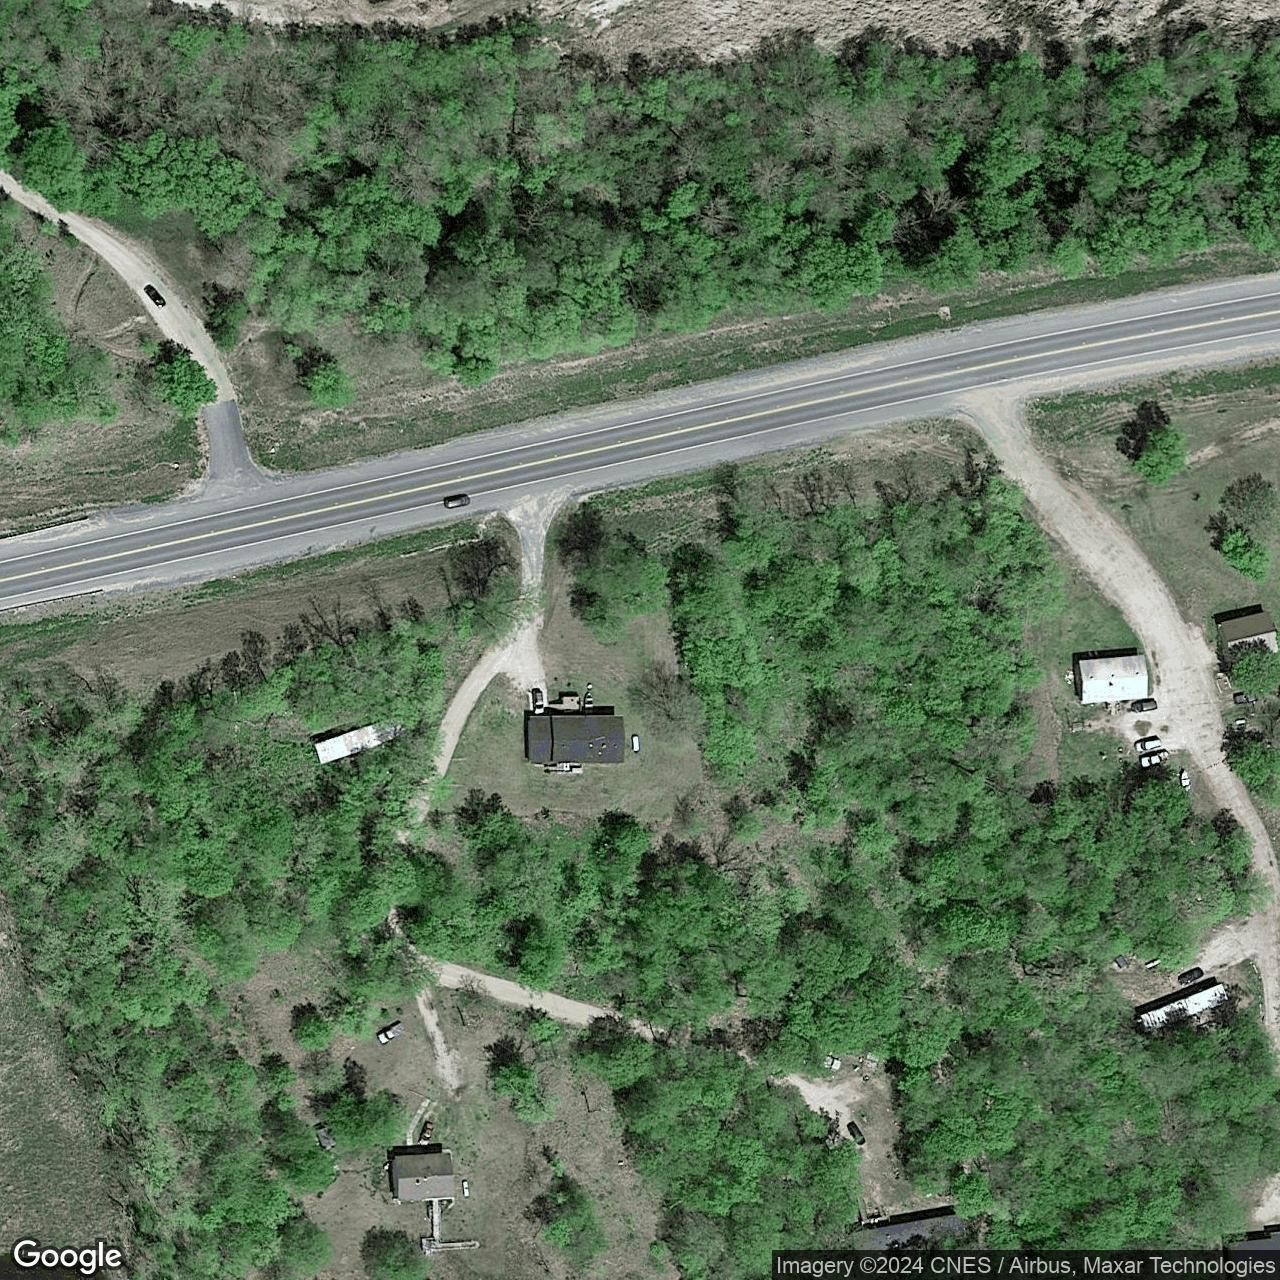House: (527, 715, 624, 763), (852, 1213, 966, 1252), (1077, 654, 1149, 703), (1217, 612, 1279, 666), (394, 1153, 456, 1200), (1224, 1232, 1280, 1251)
Propane: (1145, 956, 1162, 969), (632, 733, 640, 755), (462, 1179, 470, 1197)
Trailer: (1135, 982, 1231, 1035), (315, 717, 401, 765)
